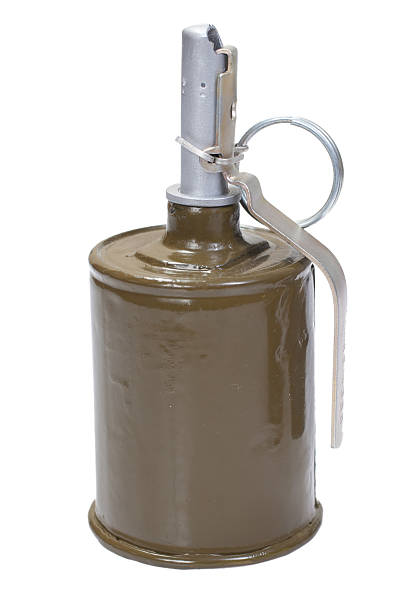e1: (83, 22, 346, 561)
